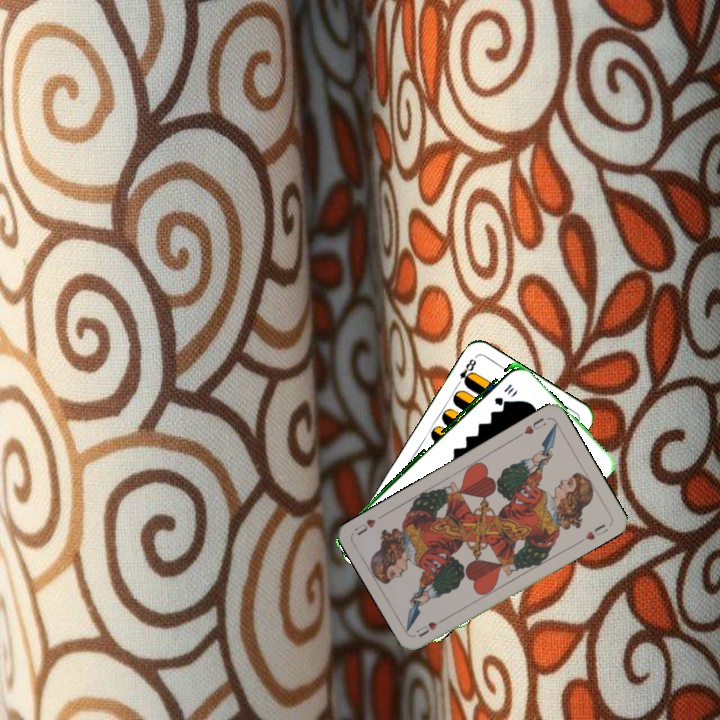E8: (452, 354, 479, 389)
G10: (490, 380, 516, 407)
HU: (412, 613, 449, 640), (514, 413, 549, 440)
